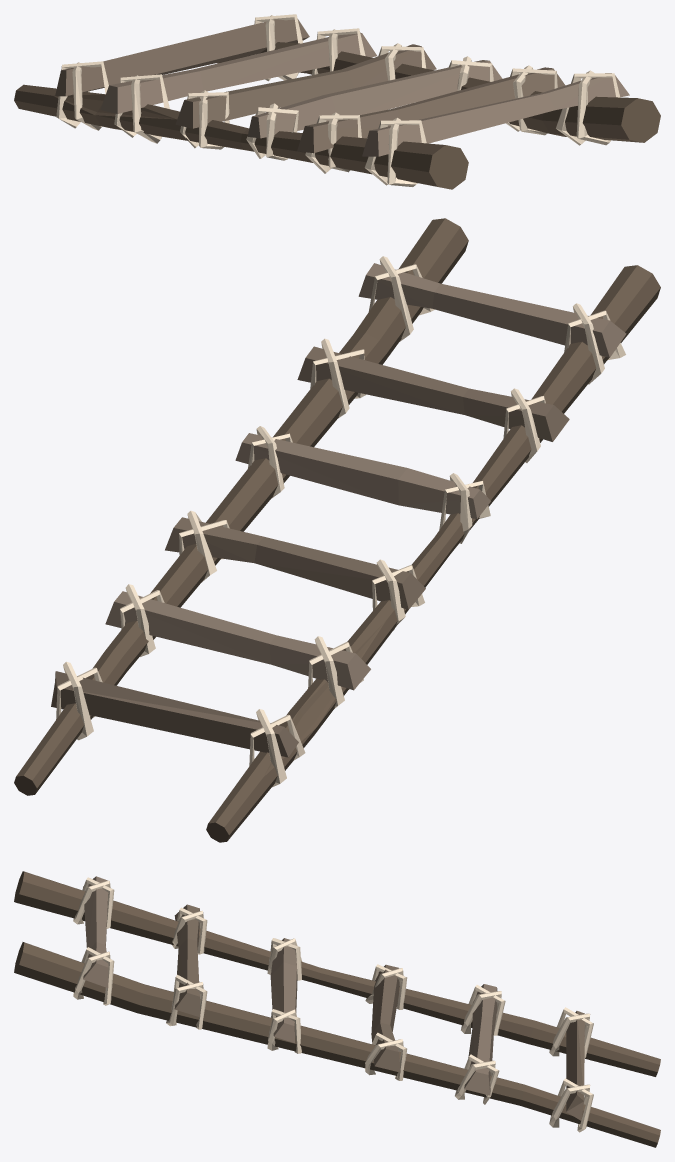
Rendered from ladder.glb.
The picture shows the model from 3 angles, top to bottom: view 1: azimuth 30°, elevation 25°; view 2: azimuth 150°, elevation 25°; view 3: azimuth 270°, elevation 25°; orthographic projection. The views are drawn at different scales.
Parts seen in each view (by area): view 1: ledder; view 2: ledder; view 3: ledder.
Part boxes in pixels (box(x1,y1,x2,y2)): ledder: box(14, 14, 660, 189); ledder: box(14, 218, 660, 842); ledder: box(14, 871, 660, 1147).
Bounding box in the file's own units: 0.9627 × 0.9784 × 2.8.
Materials: 1 (1 with a texture image).
